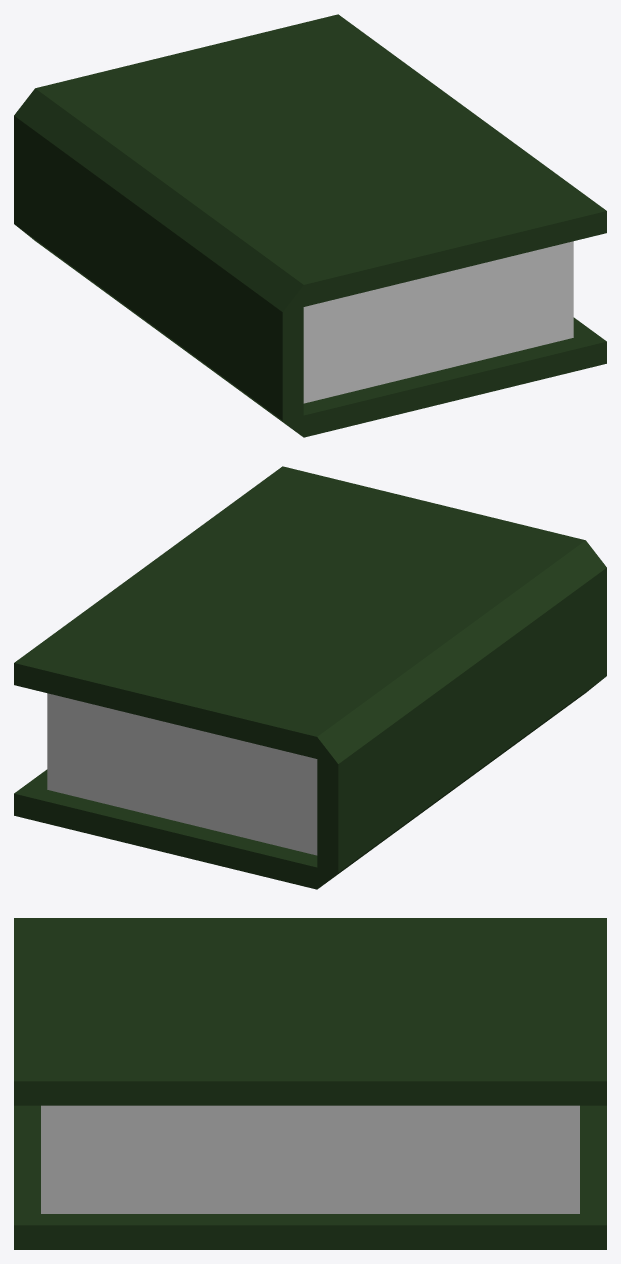
Rendered from Book1.fbx.
The picture shows the model from 3 angles, top to bottom: view 1: azimuth 30°, elevation 25°; view 2: azimuth 150°, elevation 25°; view 3: azimuth 270°, elevation 25°; orthographic projection. The views are drawn at different scales.
Parts seen in each view (by area): view 1: Cube; view 2: Cube; view 3: Cube.
Part boxes in pixels (<box>): Cube: <box>14,14,606,437</box>; Cube: <box>14,466,606,889</box>; Cube: <box>14,918,606,1249</box>.
Size of the model in its own units: 0.345 by 0.1553 by 0.495.
